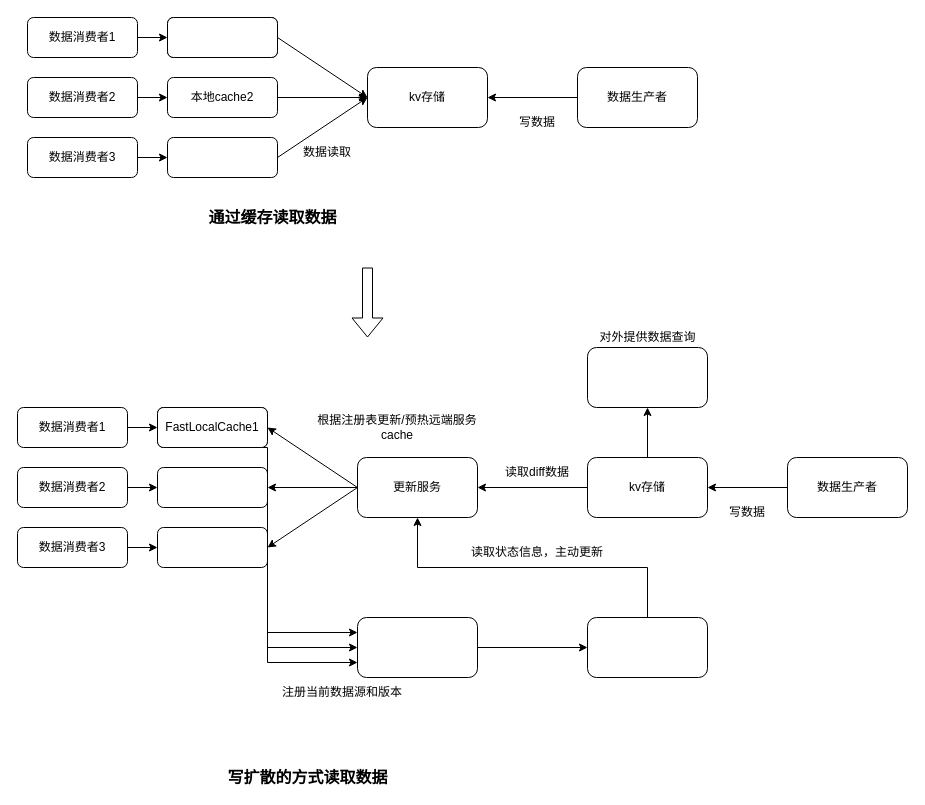
Image size: 925x805. Some labels were removed from this diagram. Here are the shapes that lost their labels. From the top down, the box of each, then its label:
(166, 16, 278, 58): 本地cache1
(166, 136, 278, 178): 本地cache3
(586, 346, 708, 408): 数据服务
(156, 466, 268, 508): FastLocalCache2
(156, 526, 268, 568): FastLocalCache3
(356, 616, 478, 678): 注册服务
(586, 616, 708, 678): 服务cache状态表
